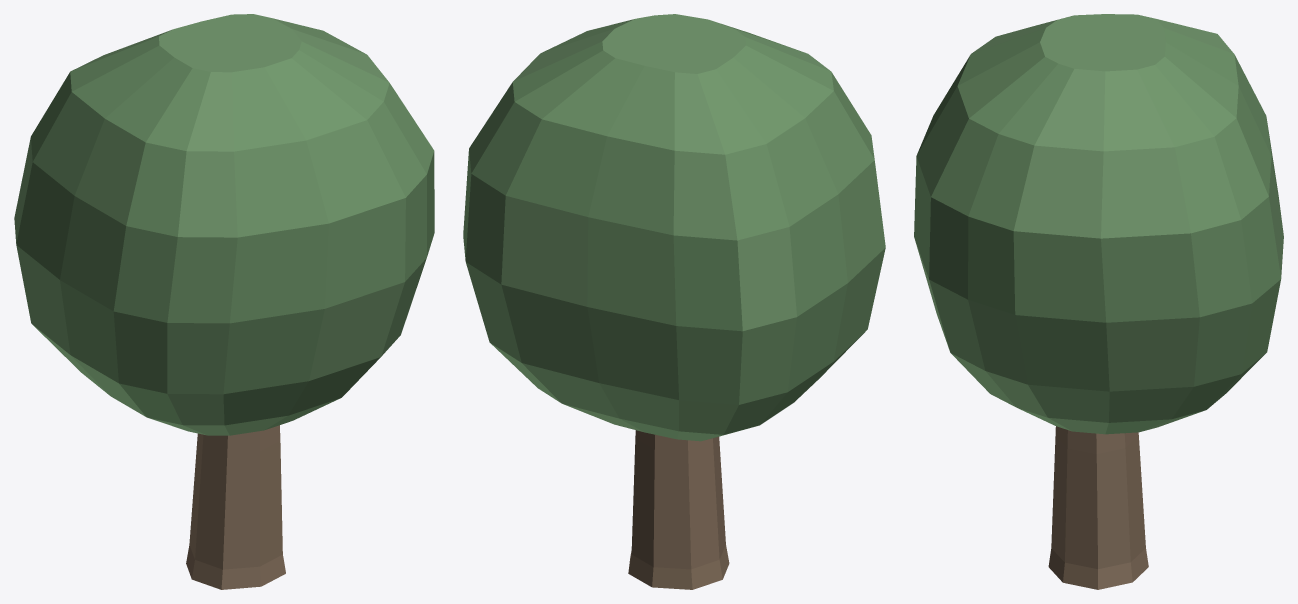
File: tree_tall.glb
The picture shows the model from 3 angles, left to right: view 1: azimuth 30°, elevation 25°; view 2: azimuth 150°, elevation 25°; view 3: azimuth 270°, elevation 25°; orthographic projection.
Visible parts, largest first — view 1: Tree_Tall_Canopy, Tree_Tall_Trunk; view 2: Tree_Tall_Canopy, Tree_Tall_Trunk; view 3: Tree_Tall_Canopy, Tree_Tall_Trunk.
Part boxes in pixels (box(x1,y1,x2,y2)): Tree_Tall_Canopy: box(14, 14, 434, 435); Tree_Tall_Trunk: box(186, 425, 285, 589); Tree_Tall_Canopy: box(463, 14, 885, 441); Tree_Tall_Trunk: box(628, 430, 729, 589); Tree_Tall_Canopy: box(914, 14, 1283, 434); Tree_Tall_Trunk: box(1048, 426, 1148, 589).
Bounding box in the file's own units: 2.28 × 3.3 × 2.11.
